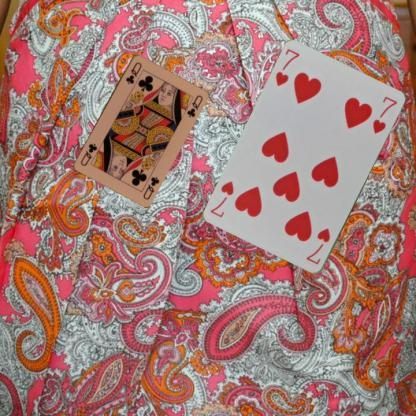7h: (272, 46, 302, 88), (303, 226, 332, 266)
Qc: (123, 59, 143, 85), (140, 174, 160, 200)
